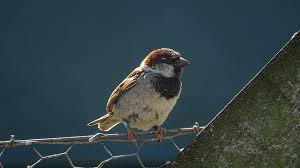hsparrow: (82, 44, 196, 143)
